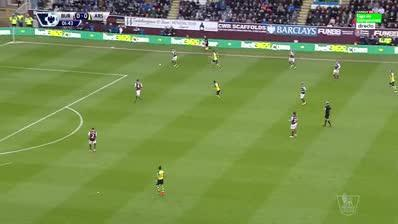futbol: (157, 62, 164, 68)
player: (154, 162, 168, 199), (288, 110, 302, 140), (86, 126, 100, 154), (297, 80, 310, 109), (211, 79, 226, 103), (133, 77, 145, 106), (385, 68, 397, 96), (169, 46, 182, 70), (209, 49, 223, 71), (331, 58, 344, 81), (287, 48, 299, 71)
referree: (320, 99, 335, 131)
